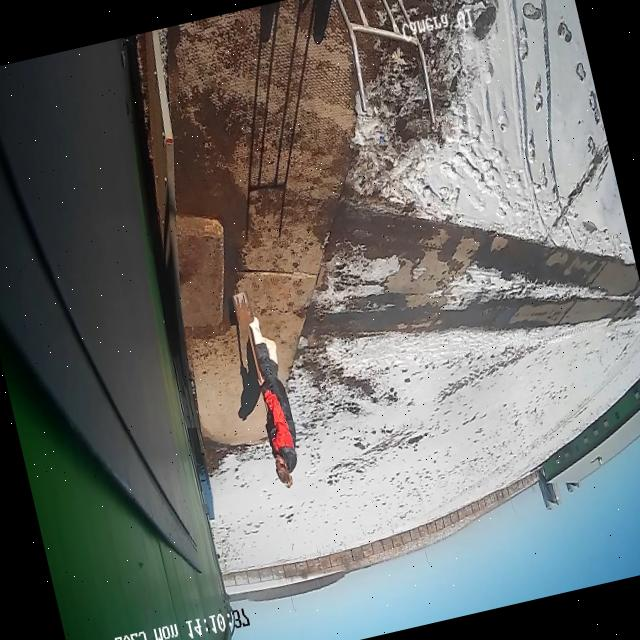Red uniform: (237, 309, 310, 492)
